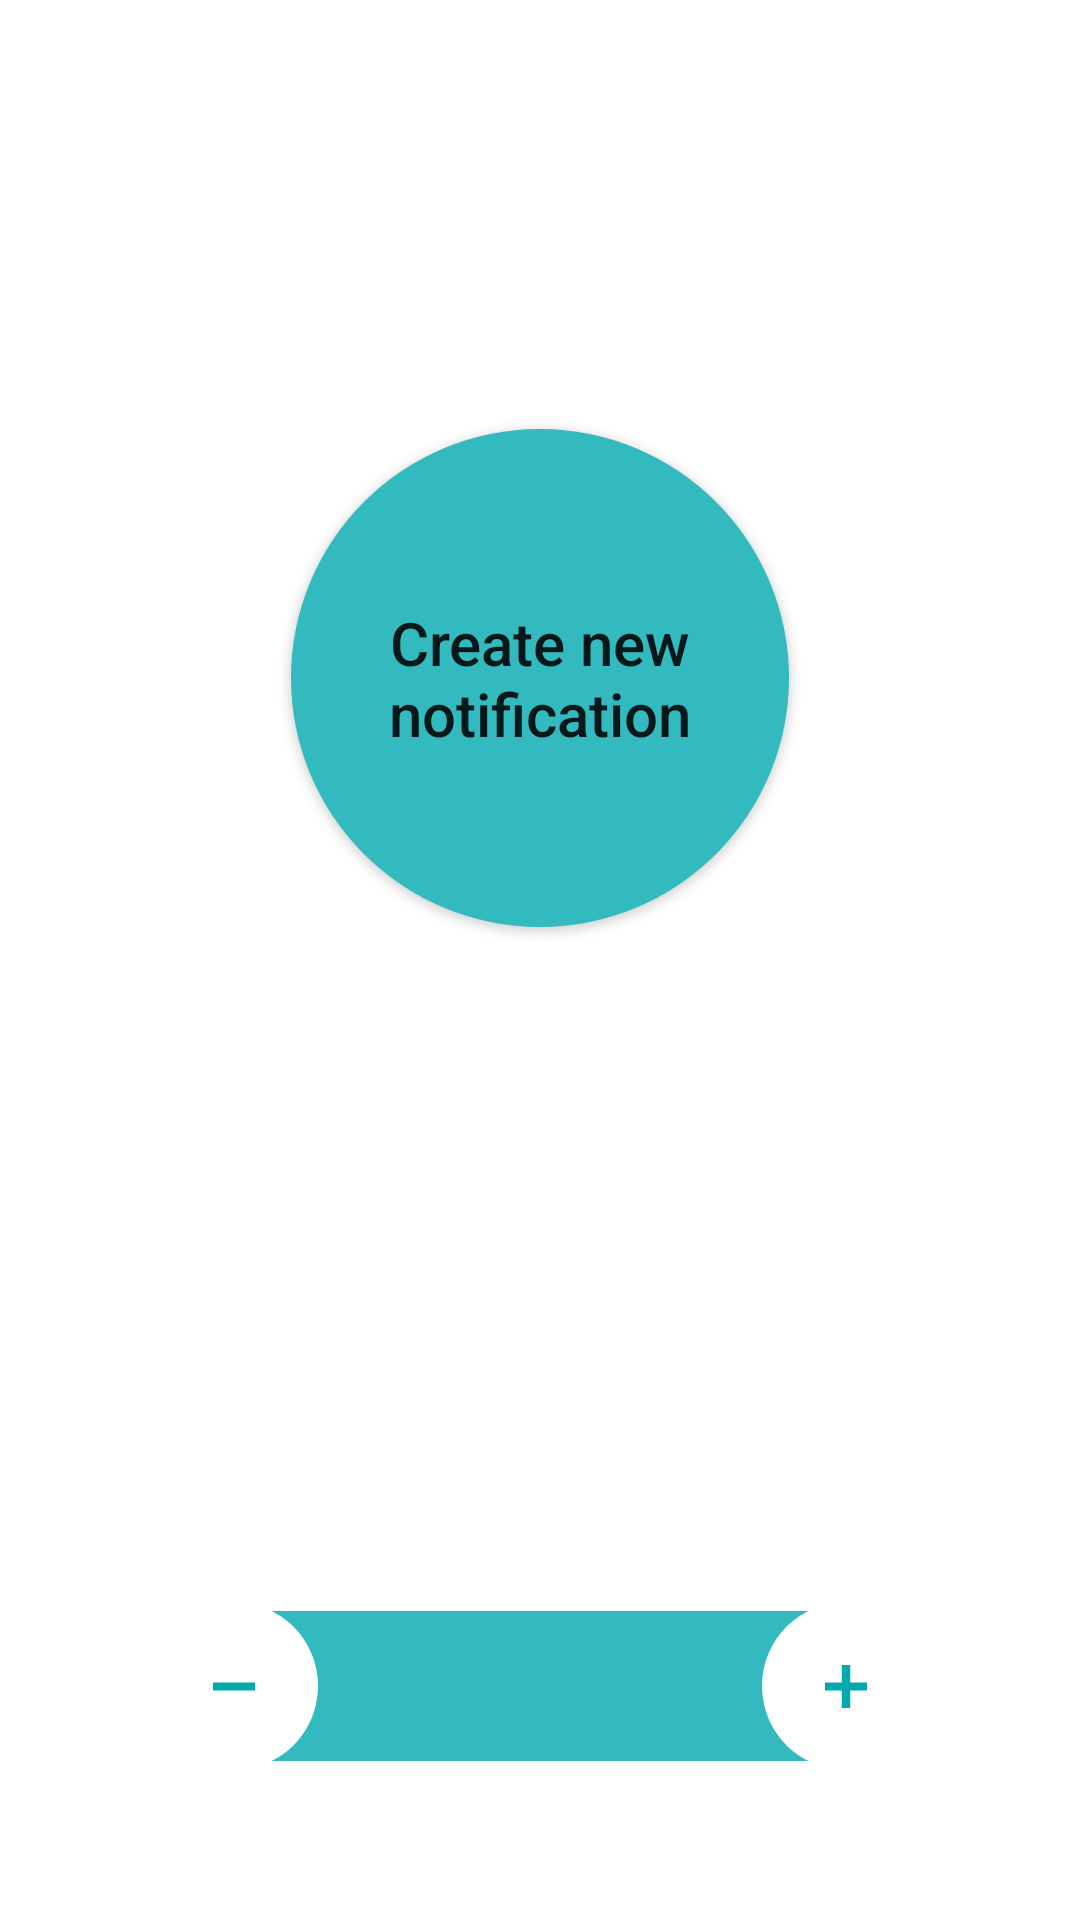

Icon click points for this 1080×1920 phone screenshot, format point (x, y):
Minus button: point (265, 1686)
Plus button: point (814, 1686)
